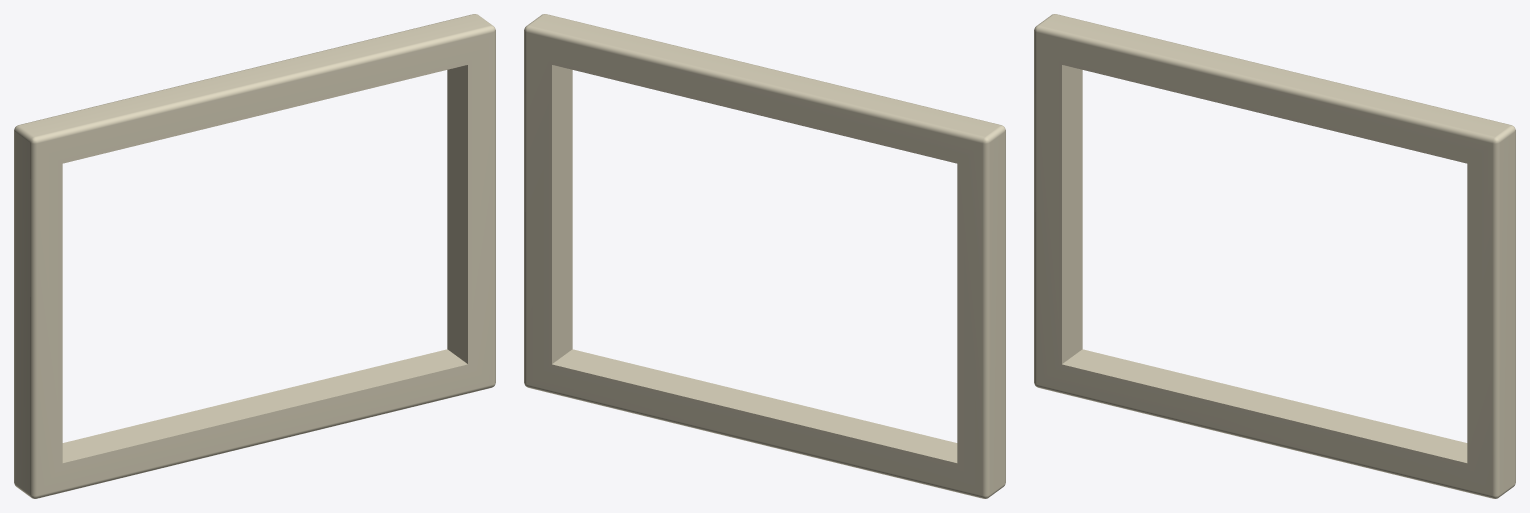
File: MonitorBezel.fbx
The picture shows the model from 3 angles, left to right: view 1: azimuth 30°, elevation 25°; view 2: azimuth 150°, elevation 25°; view 3: azimuth 330°, elevation 25°; orthographic projection.
Parts seen in each view (by area): view 1: MonitorBezel; view 2: MonitorBezel; view 3: MonitorBezel.
Part boxes in pixels (<box>): MonitorBezel: <box>14,14,495,498</box>; MonitorBezel: <box>524,14,1005,498</box>; MonitorBezel: <box>1034,14,1515,498</box>.
Bounding box in the file's own units: 0.195 × 0.145 × 0.015.
